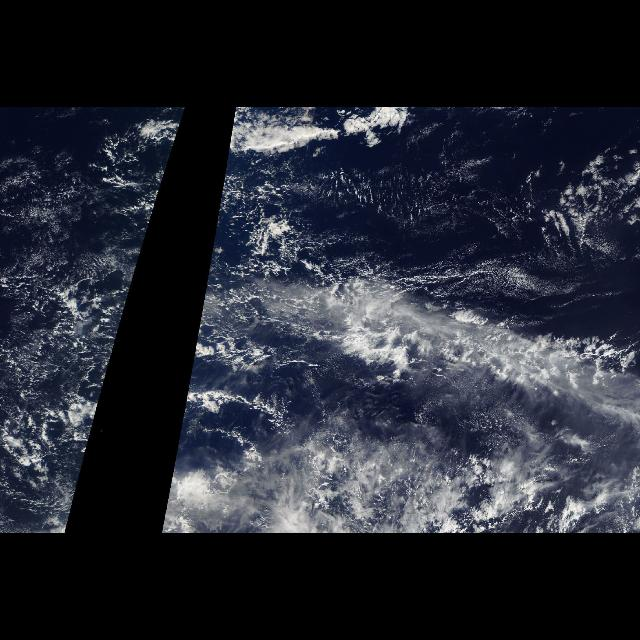Fish: (176, 211, 640, 443)
Sugar: (286, 392, 638, 532), (274, 156, 530, 292)
